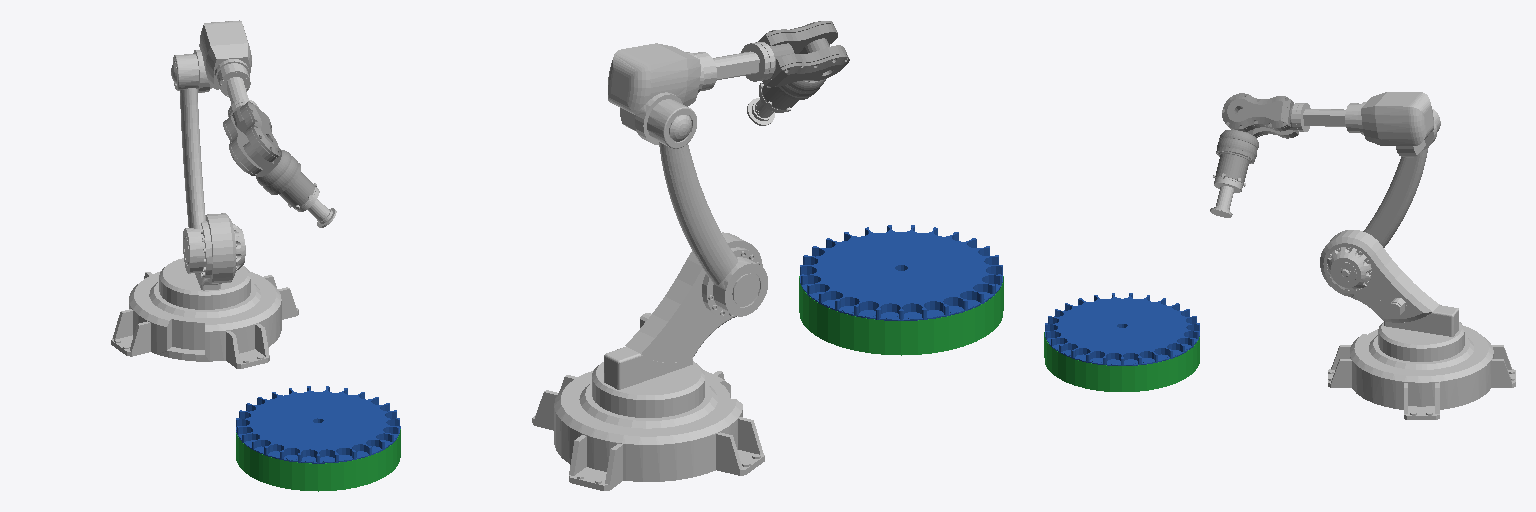
URDF robot description (asseyend):
<?xml version="1.0" encoding="utf-8" ?>
<!-- This URDF was automatically created by SolidWorks to URDF Exporter! Originally created by [author] ([email redacted]) 
     Commit Version: 1.6.0-1-g15f4949  Build Version: 1.6.7594.29634
     For more information, please see http://wiki.ros.org/sw_urdf_exporter -->
<robot name="asseyend">
    <link name="base_link">
        
<inertial>
            <origin xyz="0.00656870351939786 -7.67784056600918E-05 0.0386933672128964" rpy="0 0 0" />
            <mass value="5.76939415331174" />
            <inertia ixx="0.0364585376862836" ixy="0.00079967189831831" ixz="-4.14161585296653E-05" iyy="0.0364585376862836" iyz="-4.14161585296622E-05" izz="0.0665644380651611" />
        </inertial>

        <visual>
            <origin xyz="0 0 0" rpy="0 0 0" />
            <geometry>
                <mesh filename="package://asseyend/meshes/base_link.STL" />
            </geometry>
            <material name="">
                <color rgba="0.796078431372549 0.796078431372549 0.796078431372549 1" />
            </material>
        </visual>
        <collision>
            <origin xyz="0 0 0" rpy="0 0 0" />
            <geometry>
                <mesh filename="package://asseyend/meshes/base_link.STL" />
            </geometry>
        </collision>
    </link>
    <link name="c1">
        
<inertial>
            <origin xyz="-0.0591888309379308 -0.00400053036941213 0.0849442671080836" rpy="0 0 0" />
            <mass value="2.39364181041843" />
            <inertia ixx="0.00499410003296028" ixy="-0.000109635040146548" ixz="0.00169946708371175" iyy="0.009161860285125" iyz="7.33126840235941E-05" izz="0.00869780400381183" />
        </inertial>

        <visual>
            <origin xyz="0 0 0" rpy="0 0 0" />
            <geometry>
                <mesh filename="package://asseyend/meshes/c1.STL" />
            </geometry>
            <material name="">
                <color rgba="0.796078431372549 0.796078431372549 0.796078431372549 1" />
            </material>
        </visual>
        <collision>
            <origin xyz="0 0 0" rpy="0 0 0" />
            <geometry>
                <mesh filename="package://asseyend/meshes/c1.STL" />
            </geometry>
        </collision>
    </link>
    <joint name="m1" type="continuous">
        <origin xyz="0.0051422 -0.0015032 0.084" rpy="0 0 1.2128" />
        <parent link="base_link" />
        <child link="c1" />
        <axis xyz="0 0 1" />
    </joint>
    <link name="c2">
        
<inertial>
            <origin xyz="-0.149076769615548 -0.00825694254505338 0.0371212976814389" rpy="0 0 0" />
            <mass value="0.92753935043736" />
            <inertia ixx="0.000552993584997618" ixy="-0.000211380216192206" ixz="4.87391187236814E-05" iyy="0.0179557612133148" iyz="-9.32892538000452E-06" izz="0.018242540789793" />
        </inertial>

        <visual>
            <origin xyz="0 0 0" rpy="0 0 0" />
            <geometry>
                <mesh filename="package://asseyend/meshes/c2.STL" />
            </geometry>
            <material name="">
                <color rgba="0.796078431372549 0.796078431372549 0.796078431372549 1" />
            </material>
        </visual>
        <collision>
            <origin xyz="0 0 0" rpy="0 0 0" />
            <geometry>
                <mesh filename="package://asseyend/meshes/c2.STL" />
            </geometry>
        </collision>
    </link>
    <joint name="m2" type="continuous">
        <origin xyz="-0.15 0 0.16" rpy="1.5708 1.175 -3.1416" />
        <parent link="c1" />
        <child link="c2" />
        <axis xyz="0 0 1" />
    </joint>
    <link name="c3">
        
<inertial>
            <origin xyz="0.0403845486641832 0.032416951867913 0.0385515354076685" rpy="0 0 0" />
            <mass value="1.39795501582072" />
            <inertia ixx="0.00195933427531133" ixy="-0.00016780033614291" ixz="-0.00038603040767962" iyy="0.00749990017893449" iyz="-0.000191170868309335" izz="0.00716509595786076" />
        </inertial>

        <visual>
            <origin xyz="0 0 0" rpy="0 0 0" />
            <geometry>
                <mesh filename="package://asseyend/meshes/c3.STL" />
            </geometry>
            <material name="">
                <color rgba="0.796078431372549 0.796078431372549 0.796078431372549 1" />
            </material>
        </visual>
        <collision>
            <origin xyz="0 0 0" rpy="0 0 0" />
            <geometry>
                <mesh filename="package://asseyend/meshes/c3.STL" />
            </geometry>
        </collision>
    </link>
    <joint name="m3" type="continuous">
        <origin xyz="-0.35 0 0" rpy="-1.5708 0 1.0293" />
        <parent link="c2" />
        <child link="c3" />
        <axis xyz="0 1 0" />
    </joint>
    <link name="c4">
        
<inertial>
            <origin xyz="-0.13365510843076 1.86691062054045E-08 -2.3384296097273E-06" rpy="0 0 0" />
            <mass value="0.55094055098402" />
            <inertia ixx="0.000513531257896778" ixy="6.74179397170663E-10" ixz="-1.4056903164374E-08" iyy="0.00131606984706943" iyz="6.35796368895006E-12" izz="0.00145535507428438" />
        </inertial>

        <visual>
            <origin xyz="0 0 0" rpy="0 0 0" />
            <geometry>
                <mesh filename="package://asseyend/meshes/c4.STL" />
            </geometry>
            <material name="">
                <color rgba="0.627450980392157 0.627450980392157 0.627450980392157 1" />
            </material>
        </visual>
        <collision>
            <origin xyz="0 0 0" rpy="0 0 0" />
            <geometry>
                <mesh filename="package://asseyend/meshes/c4.STL" />
            </geometry>
        </collision>
    </link>
    <joint name="m4" type="continuous">
        <origin xyz="0.18049 0.0355 0.045291" rpy="2.4013 0 3.1416" />
        <parent link="c3" />
        <child link="c4" />
        <axis xyz="1 0 0" />
    </joint>
    <link name="c5">
        
<inertial>
            <origin xyz="-1.43534917840249E-08 -0.0581645078841896 -3.27619115170208E-09" rpy="0 0 0" />
            <mass value="0.336411503258623" />
            <inertia ixx="0.000361384811823778" ixy="-7.75585980462563E-11" ixz="7.99521813839754E-13" iyy="0.000239673115718051" iyz="1.64430557208288E-11" izz="0.00035887115103781" />
        </inertial>

        <visual>
            <origin xyz="0 0 0" rpy="0 0 0" />
            <geometry>
                <mesh filename="package://asseyend/meshes/c5.STL" />
            </geometry>
            <material name="">
                <color rgba="0.627450980392157 0.627450980392157 0.627450980392157 1" />
            </material>
        </visual>
        <collision>
            <origin xyz="0 0 0" rpy="0 0 0" />
            <geometry>
                <mesh filename="package://asseyend/meshes/c5.STL" />
            </geometry>
        </collision>
    </link>
    <joint name="m5" type="continuous">
        <origin xyz="-0.17922 0 0" rpy="-1.4616 0 -1.5708" />
        <parent link="c4" />
        <child link="c5" />
        <axis xyz="1 0 0" />
    </joint>
    <link name="c6">
        
<inertial>
            <origin xyz="-1.28699434442936E-08 2.25543661525052E-09 0.00218741900175046" rpy="0 0 0" />
            <mass value="0.0627451477183633" />
            <inertia ixx="2.222165561803E-05" ixy="4.24904096977386E-12" ixz="2.7048264141156E-12" iyy="2.22216987648166E-05" iyz="3.71322891607607E-12" izz="3.39790255431213E-05" />
        </inertial>

        <visual>
            <origin xyz="0 0 0" rpy="0 0 0" />
            <geometry>
                <mesh filename="package://asseyend/meshes/c6.STL" />
            </geometry>
            <material name="">
                <color rgba="0.627450980392157 0.627450980392157 0.627450980392157 1" />
            </material>
        </visual>
        <collision>
            <origin xyz="0 0 0" rpy="0 0 0" />
            <geometry>
                <mesh filename="package://asseyend/meshes/c6.STL" />
            </geometry>
        </collision>
    </link>
    <joint name="m6" type="continuous">
        <origin xyz="0 -0.10858 0" rpy="-1.5708 0.0019925 0" />
        <parent link="c5" />
        <child link="c6" />
        <axis xyz="0 0 1" />
    </joint>
    <link name="c7">
        
<inertial>
            <origin xyz="7.1731293488364E-08 6.89943513432212E-09 -0.0315486348318286" rpy="0 0 0" />
            <mass value="0.134102855738052" />
            <inertia ixx="0.000112174706955116" ixy="-1.85151935998978E-12" ixz="-1.20786152061918E-10" iyy="0.000112174485059579" iyz="-2.0688511972631E-11" izz="4.70371510913099E-05" />
        </inertial>

        <visual>
            <origin xyz="0 0 0" rpy="0 0 0" />
            <geometry>
                <mesh filename="package://asseyend/meshes/c7.STL" />
            </geometry>
            <material name="">
                <color rgba="0.796078431372549 0.796078431372549 0.796078431372549 1" />
            </material>
        </visual>
        <collision>
            <origin xyz="0 0 0" rpy="0 0 0" />
            <geometry>
                <mesh filename="package://asseyend/meshes/c7.STL" />
            </geometry>
        </collision>
    </link>
    <joint name="m7" type="fixed">
        <origin xyz="0 0 -0.019417" rpy="0 0 1.0472" />
        <parent link="c6" />
        <child link="c7" />
        <axis xyz="0 0 0" />
    </joint>
    <link name="baselink">
        
<inertial>
            <origin xyz="-0.069094 0.10314 0.017969" rpy="0 0 0" />
            <mass value="0.84715" />
            <inertia ixx="0.0084618" ixy="3.5834E-34" ixz="-1.2042E-18" iyy="0.0084618" iyz="-8.6308E-35" izz="0.016321" />
        </inertial>

        <visual>
            <origin xyz="0 0 0" rpy="0 0 0" />
            <geometry>
                <mesh filename="package://asseyrot/meshes/base_link.STL" />
            </geometry>
            <material name="">
                <color rgba="0.2 0.7 0.3 1" />
            </material>
        </visual>
        <collision>
            <origin xyz="0 0 0" rpy="0 0 0" />
            <geometry>
                <mesh filename="package://asseyrot/meshes/base_link.STL" />
            </geometry>
        </collision>
    </link>
    <link name="r1">
        
<inertial>
            <origin xyz="-3.4694E-17 5.5511E-16 0.0075165" rpy="0 0 0" />
            <mass value="1.2687" />
            <inertia ixx="0.0066866" ixy="2.6021E-18" ixz="-1.998E-21" iyy="0.0066866" iyz="3.767E-20" izz="0.013319" />
        </inertial>

        <visual>
            <origin xyz="0 0 0" rpy="0 0 0" />
            <geometry>
                <mesh filename="package://asseyrot/meshes/r1.STL" />
            </geometry>
            <material name="">
                <color rgba="0.2 0.4 0.7 1" />
            </material>
        </visual>
        <collision>
            <origin xyz="0 0 0" rpy="0 0 0" />
            <geometry>
                <mesh filename="package://asseyrot/meshes/r1.STL" />
            </geometry>
        </collision>
    </link>
    <joint name="mtr1" type="continuous">
        <origin xyz="-0.069094 0.10314 0.06" rpy="0 0 0.32037" />
        <parent link="baselink" />
        <child link="r1" />
        <axis xyz="0 0 1" />
    </joint>
    <joint name="asdf" type="fixed">
        <origin xyz="0 -0.7 0.0" rpy="0 0 0.32037" />
        <parent link="base_link" />
        <child link="baselink" />
        <axis xyz="0 0 1" />
    </joint>
    
<transmission name="trans_m1">
        <type>transmission_interface/SimpleTransmission</type>
        <joint name="m1">
            <hardwareInterface>hardware_interface/PositionJointInterface</hardwareInterface>
        </joint>
        <actuator name="m1_motor">
            <hardwareInterface>hardware_interface/PositionJointInterface</hardwareInterface>
            <mechanicalReduction>1</mechanicalReduction>
        </actuator>
    </transmission>
    <transmission name="trans_m2">
        <type>transmission_interface/SimpleTransmission</type>
        <joint name="m2">
            <hardwareInterface>hardware_interface/PositionJointInterface</hardwareInterface>
        </joint>
        <actuator name="m2_motor">
            <hardwareInterface>hardware_interface/PositionJointInterface</hardwareInterface>
            <mechanicalReduction>1</mechanicalReduction>
        </actuator>
    </transmission>
    <transmission name="trans_m3">
        <type>transmission_interface/SimpleTransmission</type>
        <joint name="m3">
            <hardwareInterface>hardware_interface/PositionJointInterface</hardwareInterface>
        </joint>
        <actuator name="m3_motor">
            <hardwareInterface>hardware_interface/PositionJointInterface</hardwareInterface>
            <mechanicalReduction>1</mechanicalReduction>
        </actuator>
    </transmission>
    <transmission name="trans_m4">
        <type>transmission_interface/SimpleTransmission</type>
        <joint name="m4">
            <hardwareInterface>hardware_interface/PositionJointInterface</hardwareInterface>
        </joint>
        <actuator name="m4_motor">
            <hardwareInterface>hardware_interface/PositionJointInterface</hardwareInterface>
            <mechanicalReduction>1</mechanicalReduction>
        </actuator>
    </transmission>
    <transmission name="trans_m5">
        <type>transmission_interface/SimpleTransmission</type>
        <joint name="m5">
            <hardwareInterface>hardware_interface/PositionJointInterface</hardwareInterface>
        </joint>
        <actuator name="m5_motor">
            <hardwareInterface>hardware_interface/PositionJointInterface</hardwareInterface>
            <mechanicalReduction>1</mechanicalReduction>
        </actuator>
    </transmission>
    <transmission name="trans_m6">
        <type>transmission_interface/SimpleTransmission</type>
        <joint name="m6">
            <hardwareInterface>hardware_interface/PositionJointInterface</hardwareInterface>
        </joint>
        <actuator name="m6_motor">
            <hardwareInterface>hardware_interface/PositionJointInterface</hardwareInterface>
            <mechanicalReduction>1</mechanicalReduction>
        </actuator>
    </transmission>
    <transmission name="trans_mtr1">
        <type>transmission_interface/SimpleTransmission</type>
        <joint name="mtr1">
            <hardwareInterface>hardware_interface/PositionJointInterface</hardwareInterface>
        </joint>
        <actuator name="mtr1_motor">
            <hardwareInterface>hardware_interface/PositionJointInterface</hardwareInterface>
            <mechanicalReduction>1</mechanicalReduction>
        </actuator>
    </transmission>
    <gazebo>
        <plugin name="gazebo_ros_control" filename="libgazebo_ros_control.so">
            <robotNamespace>/</robotNamespace>
        </plugin>
    </gazebo>
</robot>

--- What the picture shows (computed from the rendered views, not written in the file) ---
3 views of the same robot in one strip: view 1: azimuth 30°, elevation 25°; view 2: azimuth 150°, elevation 25°; view 3: azimuth 270°, elevation 25° (orthographic).
Robot: asseyend — 10 links, 9 joints (7 continuous, 2 fixed); root link base_link; default pose: all joints at 0.
Visible links, largest first — view 1: base_link, r1, c1, c2, baselink, c3, c4, c5, c7, c6; view 2: base_link, r1, c1, c2, c3, baselink, c4, c5, c7; view 3: base_link, c1, r1, c3, baselink, c2, c4, c5, c7, c6.
Boxes of the visible links, x1=… form: base_link: x1=111, y1=271, x2=298, y2=368; r1: x1=236, y1=386, x2=400, y2=463; c1: x1=159, y1=213, x2=250, y2=309; c2: x1=171, y1=54, x2=212, y2=278; baselink: x1=236, y1=429, x2=400, y2=491; c3: x1=193, y1=20, x2=258, y2=116; c4: x1=223, y1=101, x2=280, y2=175; c5: x1=243, y1=142, x2=300, y2=194; c7: x1=288, y1=183, x2=336, y2=227; c6: x1=279, y1=172, x2=314, y2=207; base_link: x1=532, y1=370, x2=764, y2=490; r1: x1=800, y1=225, x2=1002, y2=320; c1: x1=592, y1=232, x2=762, y2=417; c2: x1=647, y1=99, x2=767, y2=317; c3: x1=608, y1=42, x2=774, y2=144; baselink: x1=799, y1=276, x2=1003, y2=355; c4: x1=758, y1=21, x2=849, y2=87; c5: x1=776, y1=38, x2=829, y2=99; c7: x1=747, y1=83, x2=790, y2=125; base_link: x1=1328, y1=326, x2=1515, y2=419; c1: x1=1320, y1=230, x2=1464, y2=361; r1: x1=1045, y1=293, x2=1199, y2=365; c3: x1=1291, y1=92, x2=1436, y2=157; baselink: x1=1044, y1=332, x2=1199, y2=391; c2: x1=1363, y1=109, x2=1440, y2=247; c4: x1=1222, y1=93, x2=1298, y2=138; c5: x1=1216, y1=109, x2=1258, y2=163; c7: x1=1210, y1=173, x2=1245, y2=217; c6: x1=1215, y1=154, x2=1248, y2=184.
Bounding box of the posed robot: 0.46 × 0.9795 × 0.6604 m (x, y, z).
10 mesh visuals loaded from 10 distinct referenced files (10 binary STL).
